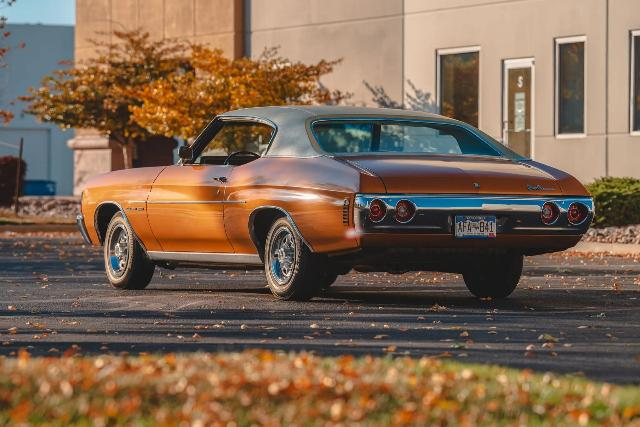chevelle-1972: (78, 106, 594, 300)
